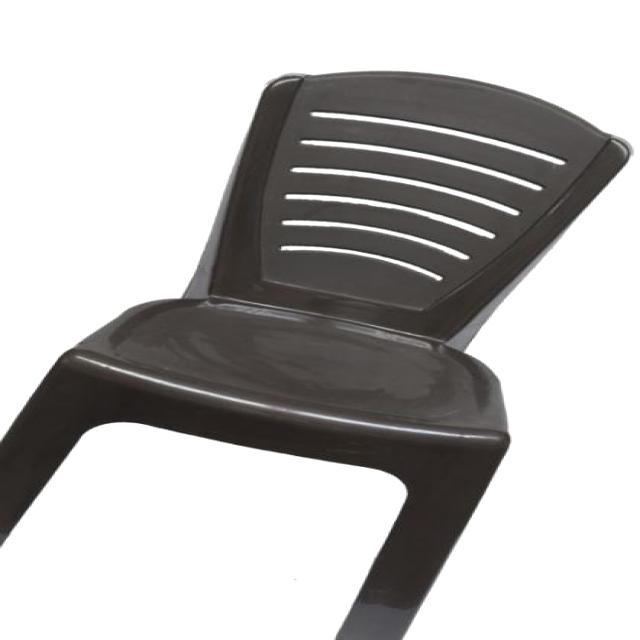Chair: (4, 69, 640, 639)
